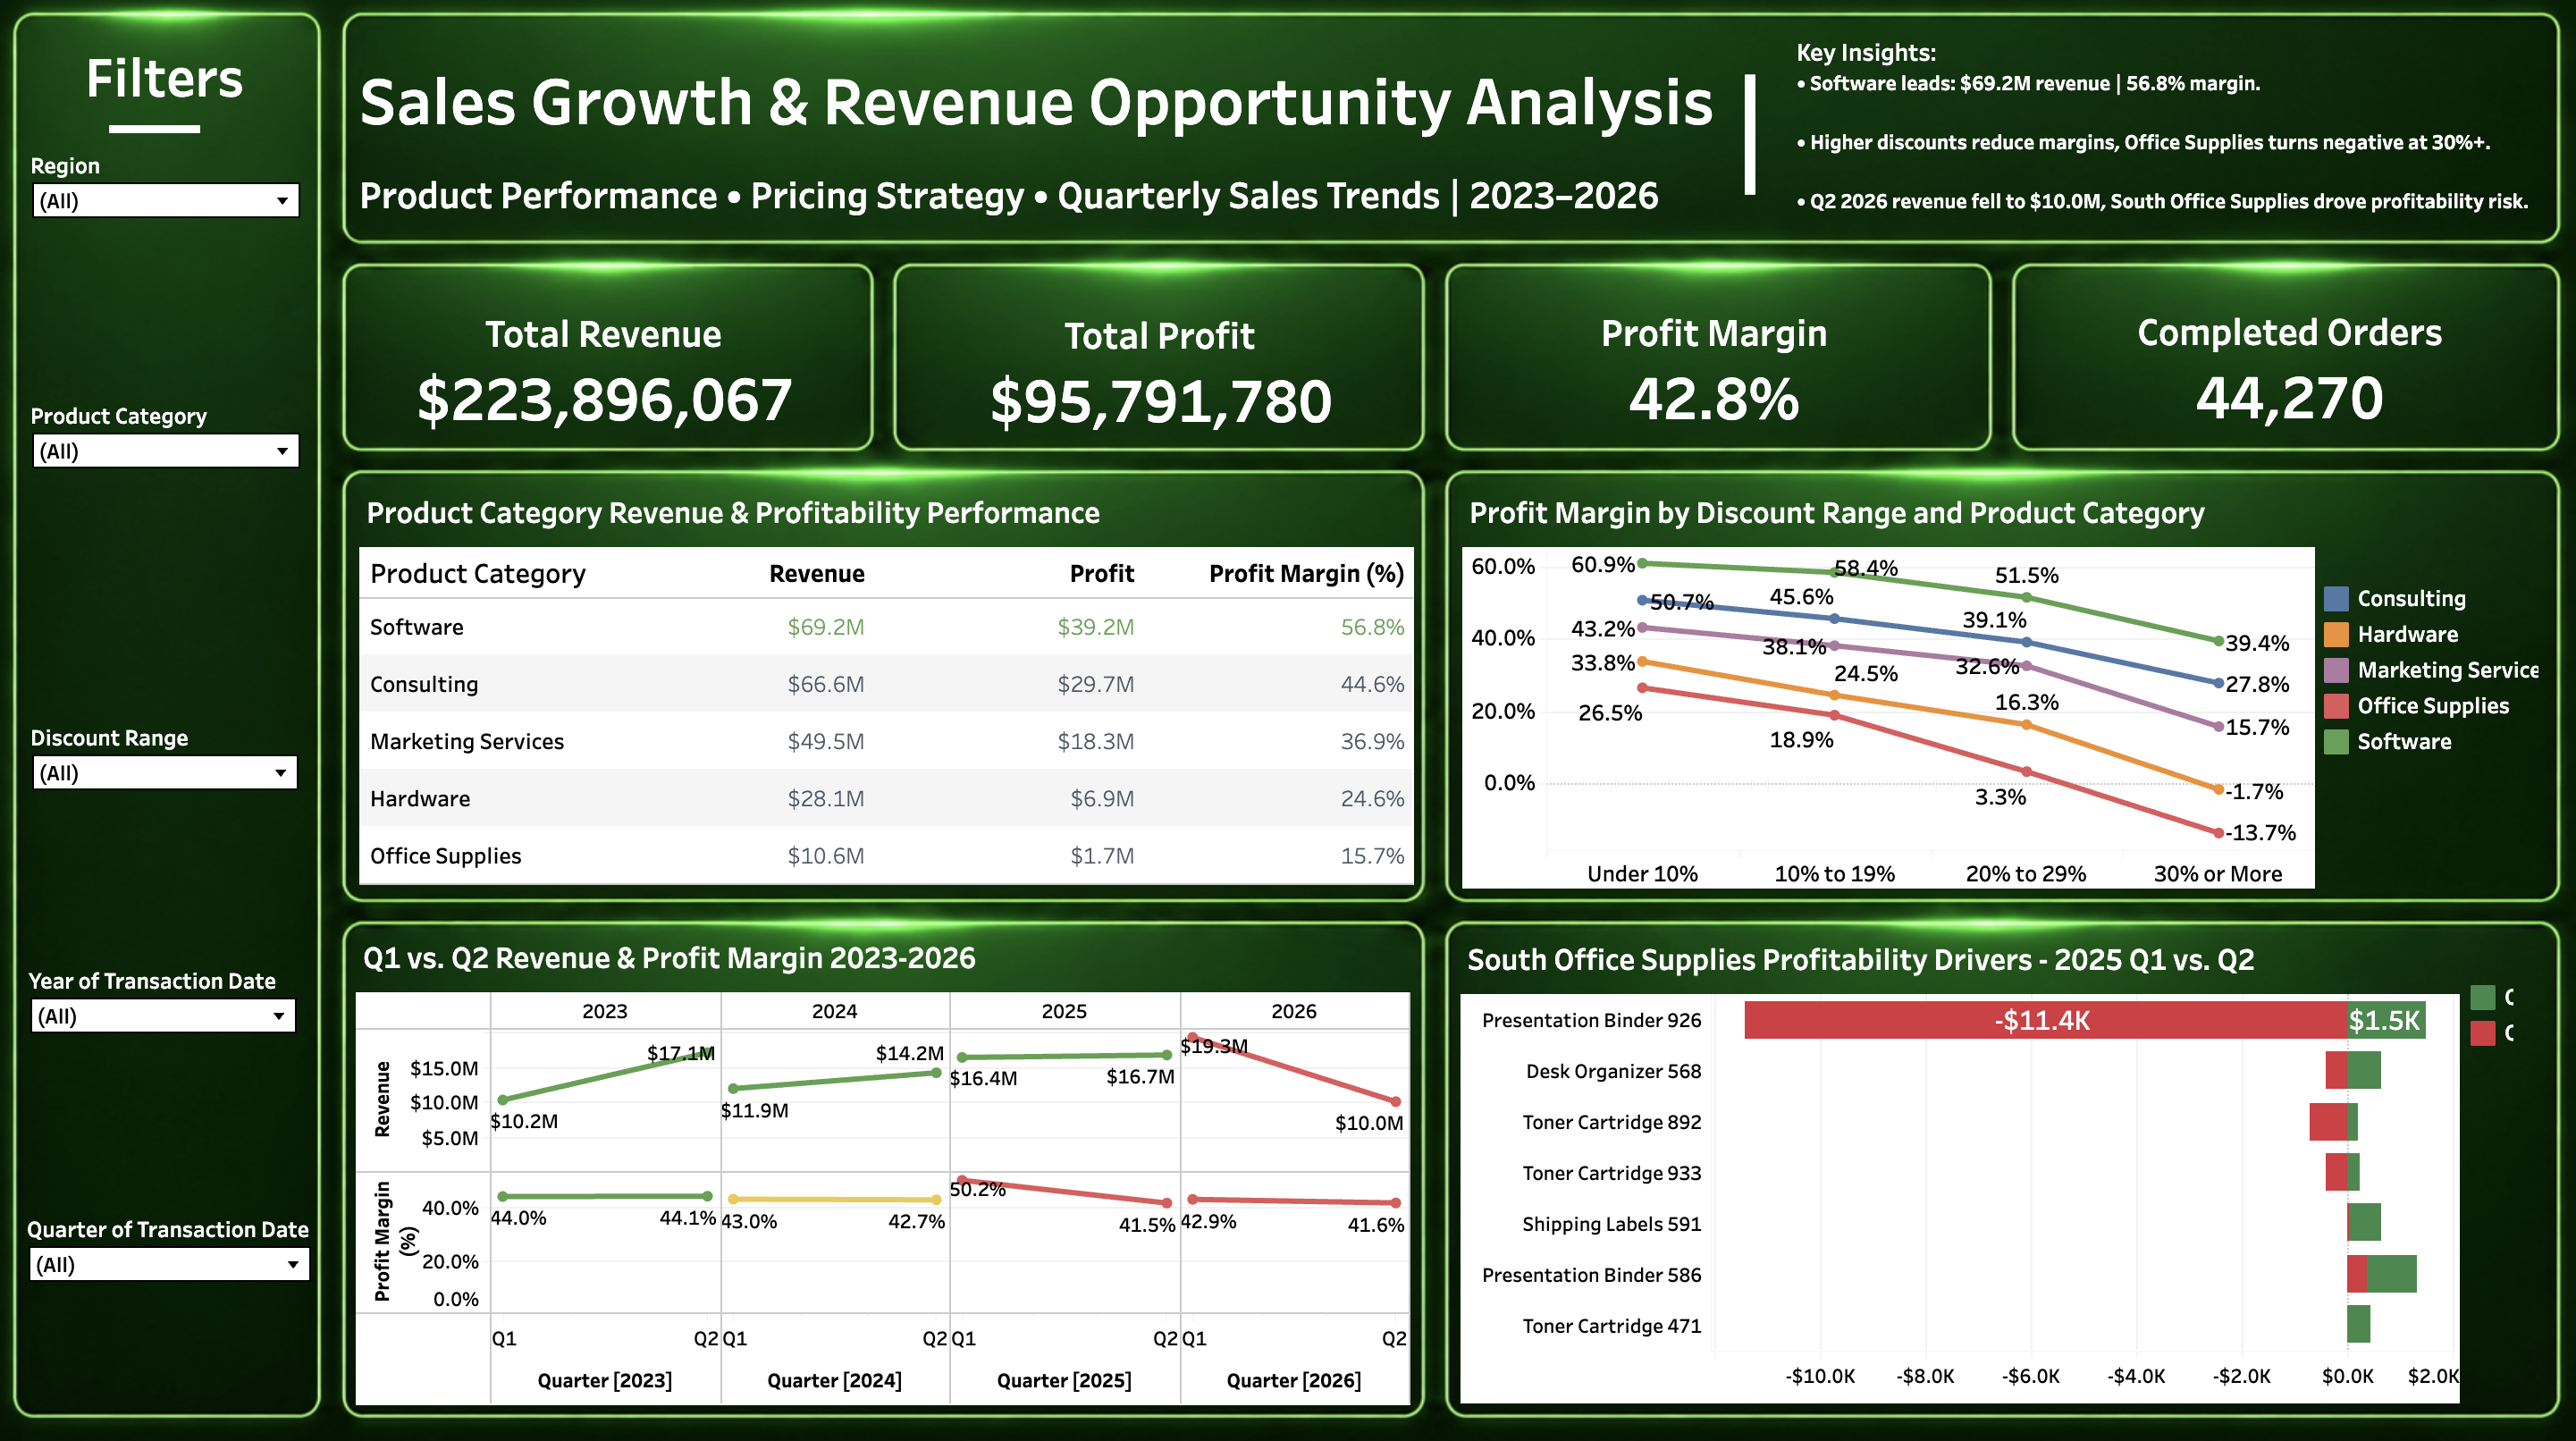

Layout of this report page (visuals, bound fields, positions):
{"tool":"tableau","page":{"name":"Sales Growth Dashboard","canvas":[1600,900],"ordinal":0},"visuals":[{"type":"image","param":"/Users/chief.3k/Downloads/sales_growth1600x900_layout.png","box":[32,3,1448,817]},{"type":"text","box":[1003,17,28,114]},{"type":"text","box":[237,21,778,80]},{"type":"text","box":[1041,25,418,101]},{"type":"text","box":[50,33,156,30]},{"type":"text","box":[86,65,73,23]},{"type":"filter","title":"Product Category Revenue & Profitability Performance","param":"[federated.08lla7c1i0ynbk1034wwq0vhidm8].[none:Region:nk]","box":[53,89,152,46]},{"type":"text","box":[237,95,751,39]},{"type":"worksheet","title":"Completed Orders","mark":"Automatic","box":[1170,158,294,95]},{"type":"worksheet","title":"Total Revenue","mark":"Automatic","box":[234,161,281,91]},{"type":"worksheet","title":"Total Profit","mark":"Automatic","box":[547,162,277,91]},{"type":"worksheet","title":"Profit Margin","mark":"Automatic","box":[848,162,294,88]},{"type":"filter","title":"Product Category Revenue & Profitability Performance","param":"[federated.08lla7c1i0ynbk1034wwq0vhidm8].[none:Product_Category:nk]","box":[53,229,152,55]},{"type":"worksheet","title":"Product Category Revenue & Profitability Performance","mark":"Automatic","rows":["Product_Category"],"box":[237,274,590,227]},{"type":"worksheet","title":"Profit Margin by Discount Range and Product Category","mark":"Line","rows":["Calculation_3639149310763014"],"cols":["Calculation_3639149247250435"],"box":[854,274,477,229]},{"type":"legend","title":"Profit Margin by Discount Range and Product Category","param":"[federated.08lla7c1i0ynbk1034wwq0vhidm8].[none:Product_Category:nk]","box":[1333,312,139,118]},{"type":"filter","title":"Product Category Revenue & Profitability Performance","param":"[federated.08lla7c1i0ynbk1034wwq0vhidm8].[none:Calculation_3639149247250435:nk]","box":[53,409,151,49]},{"type":"worksheet","title":"Q1 vs. Q2 Revenue & Profit Margin","mark":"Automatic","rows":["Revenue","Calculation_3639149310763014"],"cols":["Transaction_Date","Transaction_Date"],"box":[235,523,590,269]},{"type":"worksheet","title":"South Office Supplies Profitability Drivers — 2025 Q1 vs. Q2","mark":"Bar","rows":["Product_Name"],"cols":["Profit"],"box":[853,524,559,267]},{"type":"legend","title":"South Office Supplies Profitability Drivers — 2025 Q1 vs. Q2","param":"[federated.08lla7c1i0ynbk1034wwq0vhidm8].[qr:Transaction_Date:ok]","box":[1415,535,43,58]},{"type":"filter","title":"Total Revenue","param":"[federated.18dm0331ugb5bf19uw7ir0br0rrf].[yr:Transaction_Date:ok]","box":[52,545,151,53]},{"type":"filter","title":"Total Revenue","param":"[federated.18dm0331ugb5bf19uw7ir0br0rrf].[qr:Transaction_Date:ok]","box":[51,684,160,53]}]}

Visuals, with their boxes in screenshot pixels (x1, y1, x2, y2), scaled from the page's 1600x900 canvas onto the 2576x1441 screenshot:
image: region(52, 4, 2383, 1313)
text: region(1615, 27, 1660, 210)
text: region(382, 34, 1634, 162)
text: region(1676, 40, 2349, 202)
text: region(80, 53, 332, 101)
text: region(139, 104, 256, 141)
"Product Category Revenue & Profitability Performance" filter: region(85, 142, 330, 216)
text: region(382, 152, 1591, 215)
"Completed Orders" worksheet: region(1883, 253, 2357, 405)
"Total Revenue" worksheet: region(376, 257, 829, 403)
"Total Profit" worksheet: region(880, 259, 1326, 405)
"Profit Margin" worksheet: region(1365, 259, 1839, 400)
"Product Category Revenue & Profitability Performance" filter: region(85, 367, 330, 455)
"Product Category Revenue & Profitability Performance" worksheet: region(382, 439, 1332, 802)
"Profit Margin by Discount Range and Product Category" worksheet (Line marks): region(1375, 439, 2142, 805)
"Profit Margin by Discount Range and Product Category" legend: region(2146, 500, 2370, 688)
"Product Category Revenue & Profitability Performance" filter: region(85, 655, 328, 733)
"Q1 vs. Q2 Revenue & Profit Margin" worksheet: region(378, 838, 1328, 1268)
"South Office Supplies Profitability Drivers — 2025 Q1 vs. Q2" worksheet (Bar marks): region(1373, 839, 2273, 1267)
"South Office Supplies Profitability Drivers — 2025 Q1 vs. Q2" legend: region(2278, 856, 2347, 949)
"Total Revenue" filter: region(84, 872, 327, 957)
"Total Revenue" filter: region(82, 1095, 340, 1180)
